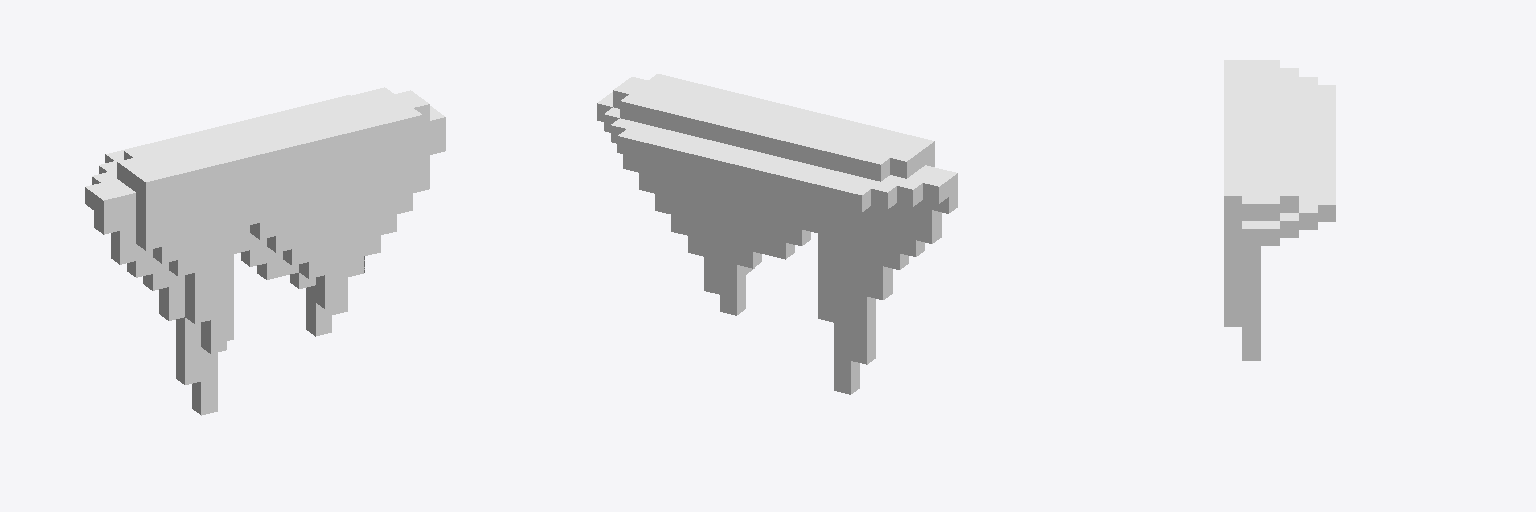
The model's file is Wall-Plant.obj.
3 renders of one model, left to right at view 1: azimuth 30°, elevation 25°; view 2: azimuth 150°, elevation 25°; view 3: azimuth 270°, elevation 25°, orthographic.
Parts seen in each view (by area): view 1: object 1; view 2: object 1; view 3: object 1.
Part boxes in pixels (x1,y1,x2,y2): object 1: (85, 87, 445, 415); object 1: (597, 74, 957, 394); object 1: (1224, 60, 1335, 360).
Size of the model in its own units: 2.1 by 1.5 by 0.6.